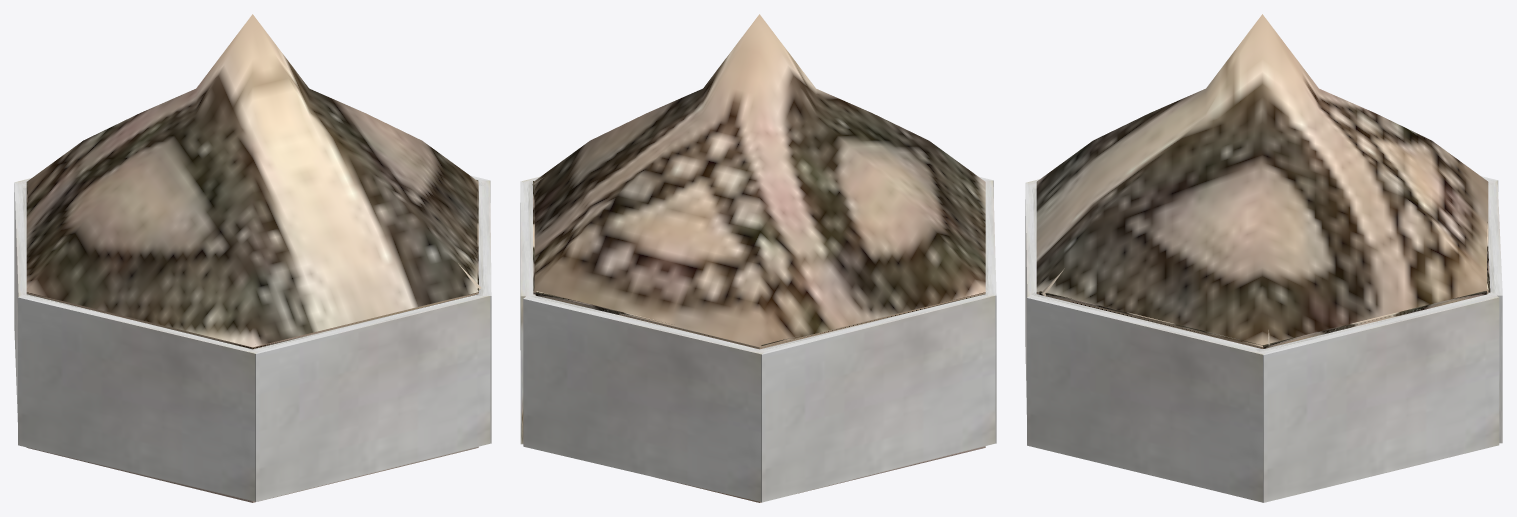
File: HubRoomExport.fbx
3 renders of one model, left to right at view 1: azimuth 30°, elevation 25°; view 2: azimuth 150°, elevation 25°; view 3: azimuth 270°, elevation 25°, orthographic.
Visible parts, largest first — view 1: pCube13, pCube7, pCylinder6; view 2: pCube13, pCube7; view 3: pCube13, pCube7.
Boxes of the visible parts, left/top/right/bottom form: pCube13: left=26, top=14, right=478, bottom=349; pCube7: left=14, top=175, right=491, bottom=501; pCylinder6: left=26, top=446, right=478, bottom=502; pCube13: left=533, top=14, right=985, bottom=349; pCube7: left=520, top=176, right=996, bottom=502; pCube13: left=1036, top=14, right=1490, bottom=348; pCube7: left=1025, top=176, right=1502, bottom=502.
Size of the model in its own units: 16.79 by 12.8 by 14.65.
15 materials, 8 textured.
